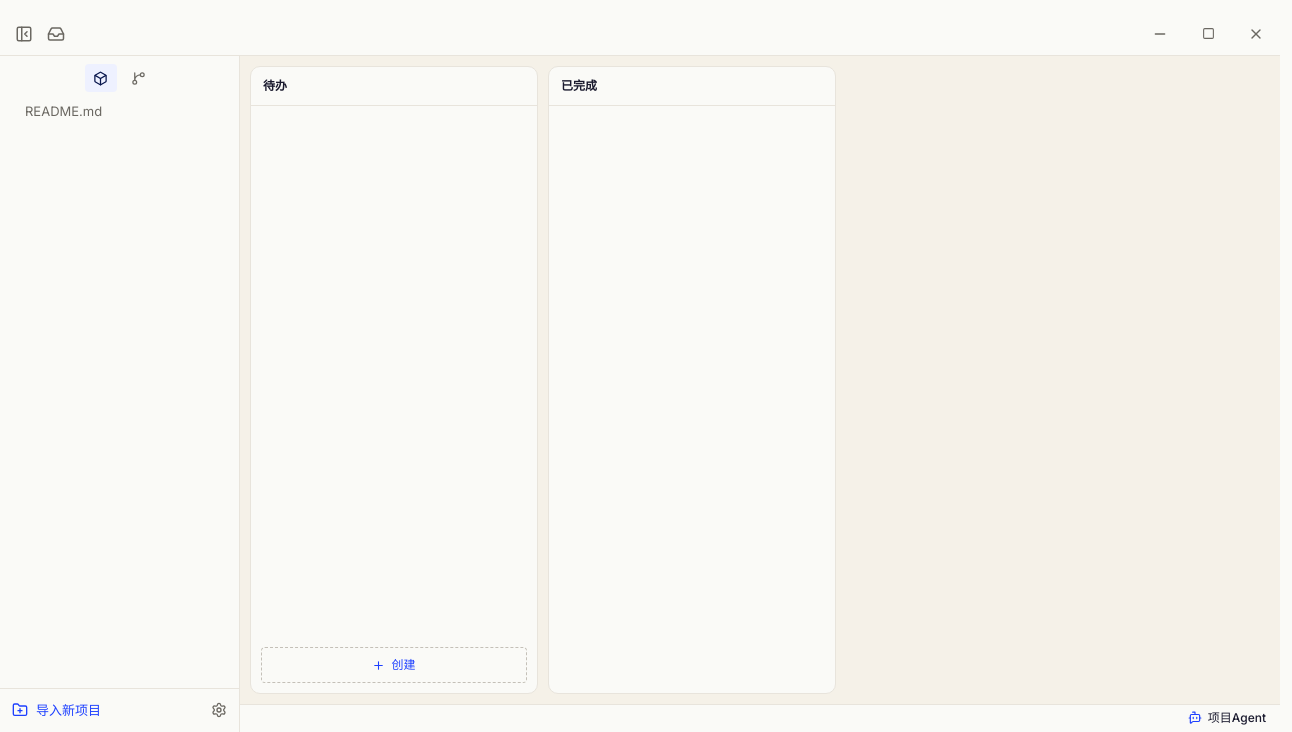
Scenario: App 文件查看器 › 点击文件树里的文件后查看器浮层出现并展示该文件
Click the button "README.md" at (120, 112), box x1=4 y1=100 x2=235 y2=124
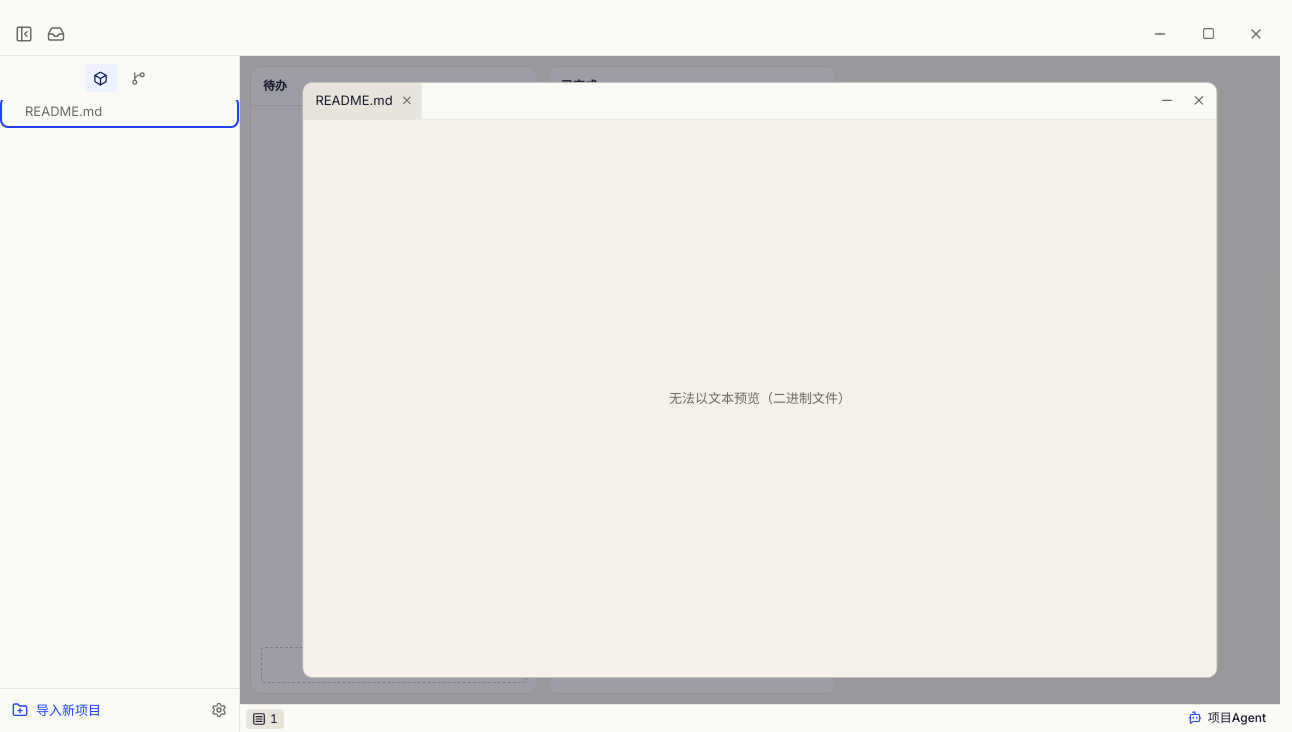
Expected: the element with test id "viewer-scrim" is shown
Expected: the tab "README.md" is shown, x1=315 y1=83 x2=393 y2=118
